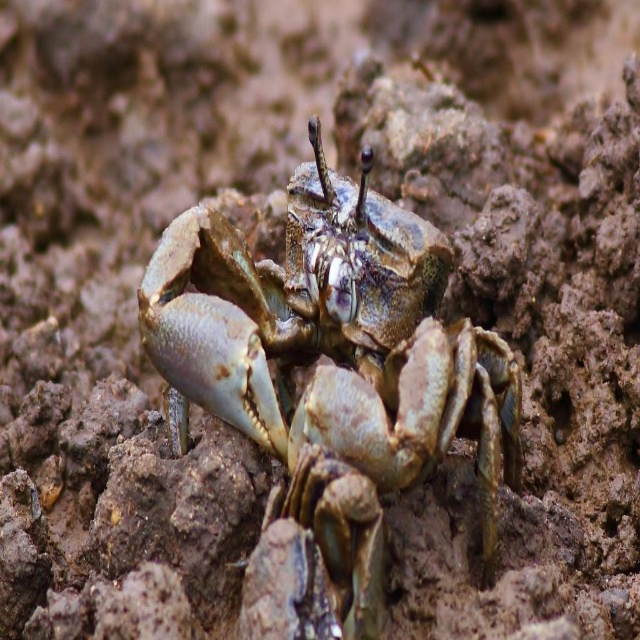Crab: (138, 109, 524, 640)
